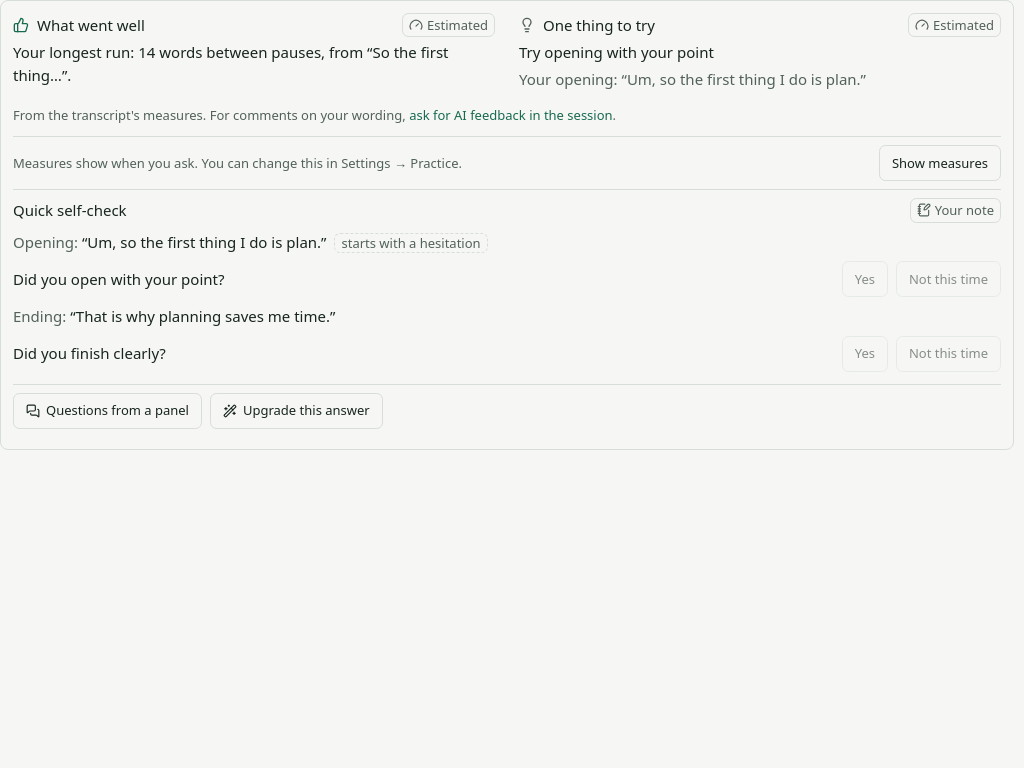
Test: take summary v2 (8.3) › shows measures on request (11.4)
Check: the heading "What went well" is shown, box top-left (13, 14), bottom-right (145, 36)
Check: the element "Quick self-check" is shown, box top-left (13, 198), bottom-right (1001, 372)
Click the button "Show measures": point(940, 163) top-left (879, 145), bottom-right (1001, 181)
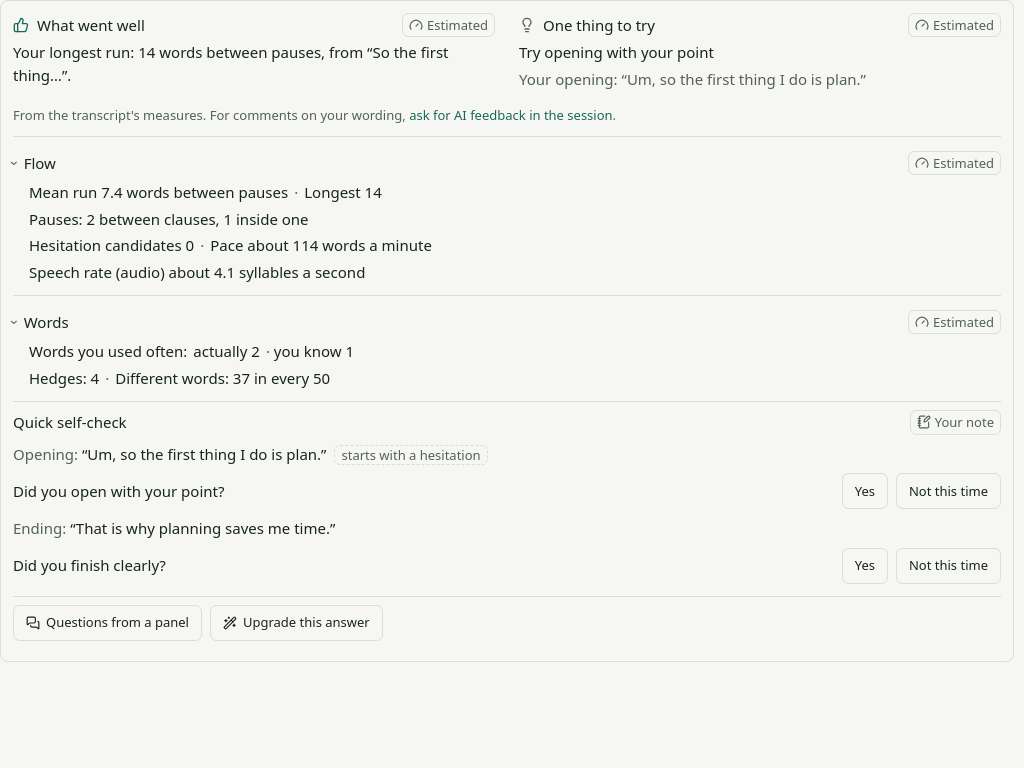
Check: the text "Flow" is shown, box top-left (24, 153), bottom-right (56, 173)
Check: the text "Words" is shown, box top-left (24, 312), bottom-right (69, 332)
